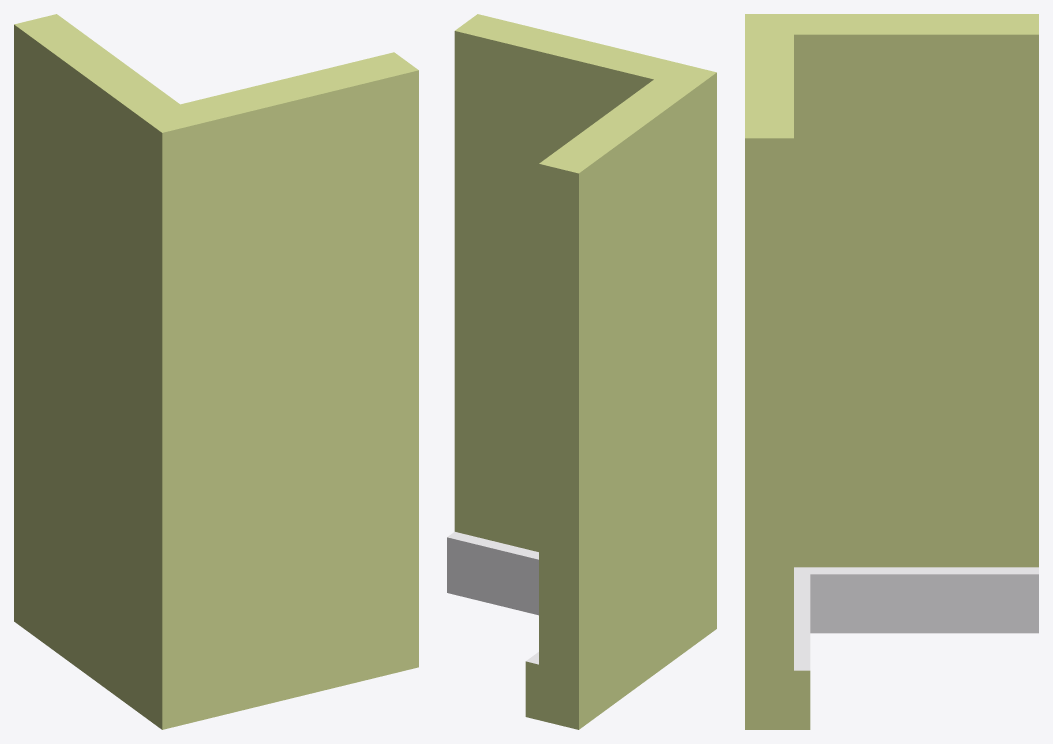
The model's file is WallCorner.glb.
3 renders of one model, left to right at view 1: azimuth 30°, elevation 25°; view 2: azimuth 150°, elevation 25°; view 3: azimuth 270°, elevation 25°, orthographic. The views are drawn at different scales.
Parts seen in each view (by area): view 1: WallCorner.003; view 2: WallCorner.003; view 3: WallCorner.003.
Boxes of the visible parts, x1,y1,x2,y2 form: WallCorner.003: (14,14,418,729); WallCorner.003: (447,14,716,729); WallCorner.003: (745,14,1038,729).
Bounding box in the file's own units: 18 × 40 × 18.
